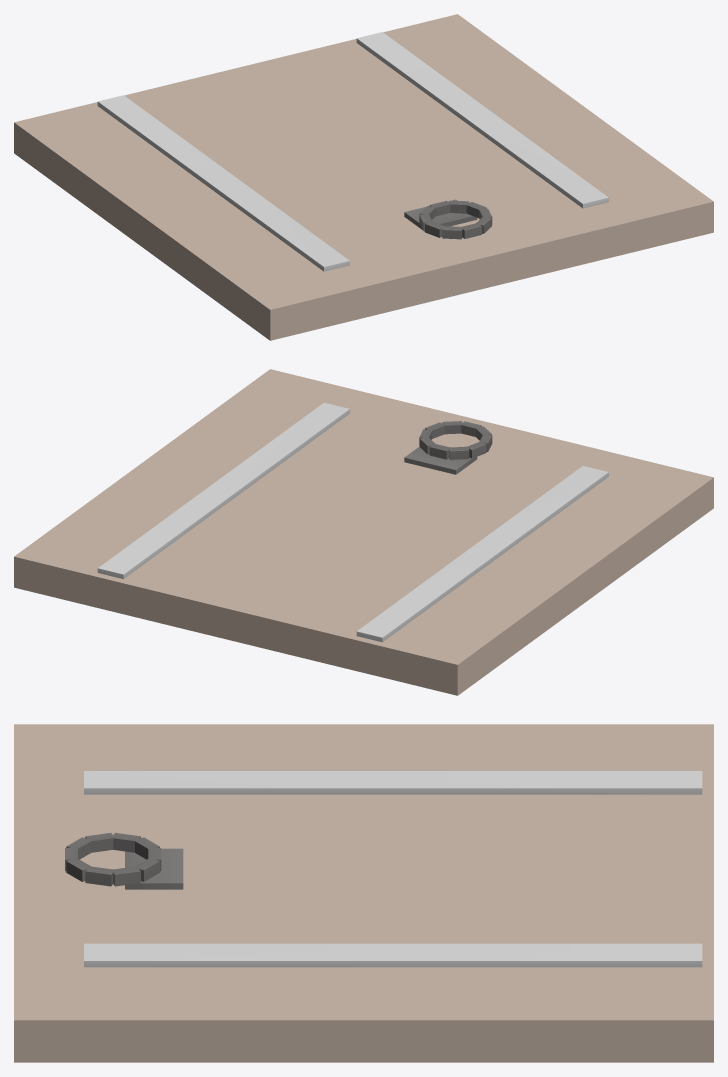
The model's file is kit_trapdoor.glb.
3 views of the same model, one above another, from view 1: azimuth 30°, elevation 25°; view 2: azimuth 150°, elevation 25°; view 3: azimuth 270°, elevation 25° (orthographic). The views are drawn at different scales.
Parts seen in each view (by area): view 1: kit_trapdoor; view 2: kit_trapdoor; view 3: kit_trapdoor.
Boxes of the visible parts, left/top/right/bottom form: kit_trapdoor: left=14, top=14, right=713, bottom=340; kit_trapdoor: left=14, top=369, right=713, bottom=695; kit_trapdoor: left=14, top=724, right=713, bottom=1062.
Size of the model in its own units: 1.2 by 0.115 by 1.2.
